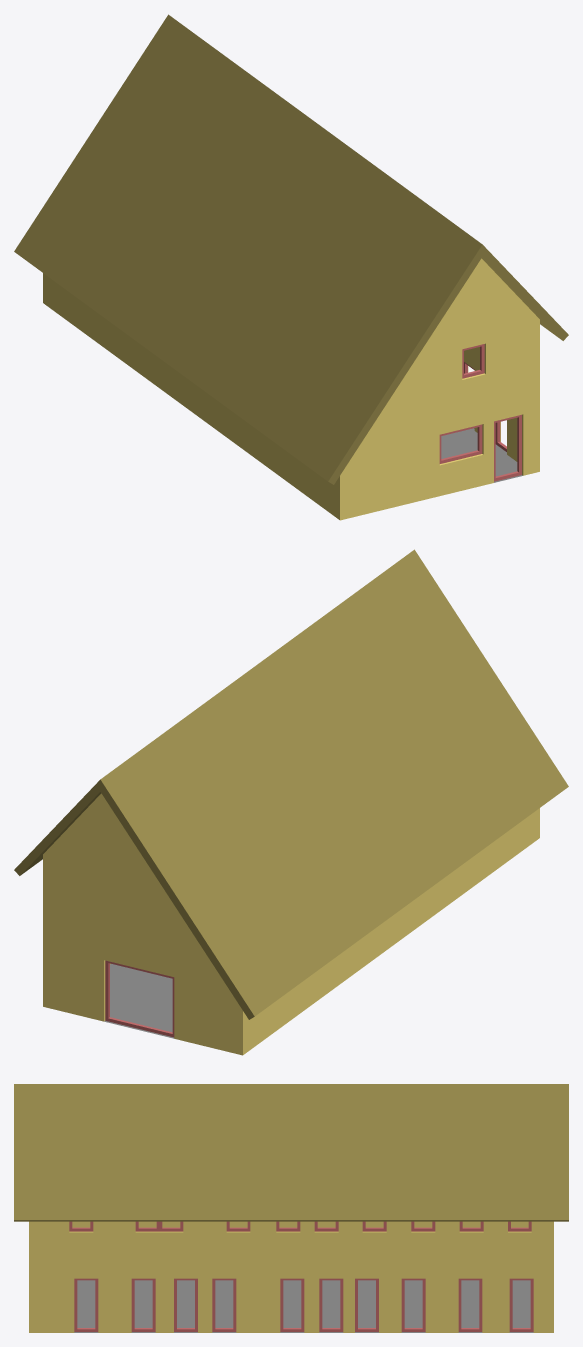
The model's file is result.glb.
The picture shows the model from 3 angles, top to bottom: view 1: azimuth 30°, elevation 25°; view 2: azimuth 150°, elevation 25°; view 3: azimuth 270°, elevation 25°; orthographic projection. The views are drawn at different scales.
Parts seen in each view (by area): view 1: 40f0b1b3-3415-42d0-9f33-d4bbb72bf258__undefined (×2), 5b4cf47c-2e01-49e2-8ef4-af76dd8fdcef__undefined, c5f52cfb-2d7d-4303-a3b1-151e3a45123a__Plane_44; view 2: 40f0b1b3-3415-42d0-9f33-d4bbb72bf258__undefined (×2), 5b4cf47c-2e01-49e2-8ef4-af76dd8fdcef__undefined, c5f52cfb-2d7d-4303-a3b1-151e3a45123a__Plane_44, 39375cf6-67ef-4af5-8c23-59635aeeb966__Box_9; view 3: 40f0b1b3-3415-42d0-9f33-d4bbb72bf258__undefined, 5b4cf47c-2e01-49e2-8ef4-af76dd8fdcef__undefined, c5f52cfb-2d7d-4303-a3b1-151e3a45123a__Plane_44, 829e1b6f-a1dd-4dcd-a3b9-f6678325bbf1__Box_72, 08d94e15-784a-4bb9-ac19-4ee11436a80a__Box_75, fa5c6642-9e64-443f-b669-f5e516193c75__Box_81, 8fe016bf-b801-4fe3-bafd-0d56c338feea__Box_84, 3f518836-14c9-42f7-b366-a2909f6b4c11__Box_87, a1ead8e2-3a9b-48d3-ac5d-e7ef7b8fd59f__Box_93, 3ac8025f-db00-419e-a571-72daeb90a930__Box_99, b237601c-612b-4d3b-8439-8d8f888b2a29__Box_96, c961a57c-2433-4927-837c-7b0de8c9ff13__Box_78 (+1 smaller).
Boxes of the visible parts, x1,y1,x2,y2 form: 40f0b1b3-3415-42d0-9f33-d4bbb72bf258__undefined (×2): (14, 14, 568, 484); 5b4cf47c-2e01-49e2-8ef4-af76dd8fdcef__undefined: (43, 258, 539, 520); c5f52cfb-2d7d-4303-a3b1-151e3a45123a__Plane_44: (441, 428, 522, 482); 40f0b1b3-3415-42d0-9f33-d4bbb72bf258__undefined (×2): (14, 549, 568, 1019); 5b4cf47c-2e01-49e2-8ef4-af76dd8fdcef__undefined: (43, 793, 539, 1055); c5f52cfb-2d7d-4303-a3b1-151e3a45123a__Plane_44: (104, 964, 174, 1038); 39375cf6-67ef-4af5-8c23-59635aeeb966__Box_9: (105, 960, 174, 1037); 40f0b1b3-3415-42d0-9f33-d4bbb72bf258__undefined: (14, 1084, 568, 1221); 5b4cf47c-2e01-49e2-8ef4-af76dd8fdcef__undefined: (29, 1221, 553, 1332); c5f52cfb-2d7d-4303-a3b1-151e3a45123a__Plane_44: (74, 1280, 533, 1332); 829e1b6f-a1dd-4dcd-a3b9-f6678325bbf1__Box_72: (74, 1278, 98, 1331); 08d94e15-784a-4bb9-ac19-4ee11436a80a__Box_75: (131, 1278, 155, 1331); fa5c6642-9e64-443f-b669-f5e516193c75__Box_81: (212, 1278, 236, 1331); 8fe016bf-b801-4fe3-bafd-0d56c338feea__Box_84: (280, 1278, 304, 1331); 3f518836-14c9-42f7-b366-a2909f6b4c11__Box_87: (319, 1278, 343, 1331); a1ead8e2-3a9b-48d3-ac5d-e7ef7b8fd59f__Box_93: (401, 1278, 425, 1331); 3ac8025f-db00-419e-a571-72daeb90a930__Box_99: (509, 1278, 533, 1331); b237601c-612b-4d3b-8439-8d8f888b2a29__Box_96: (458, 1278, 482, 1331); c961a57c-2433-4927-837c-7b0de8c9ff13__Box_78: (174, 1278, 197, 1331).
Bounding box in the file's own units: 820 × 812 × 1853.
